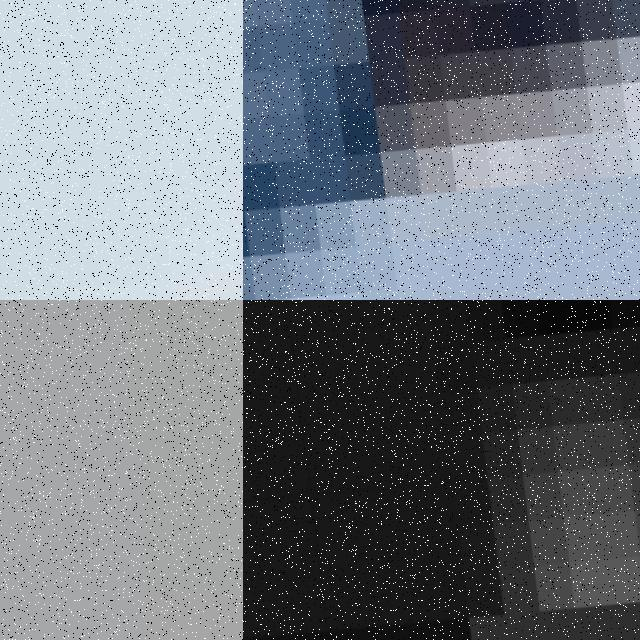0: (243, 300, 640, 640), (243, 0, 640, 300)
drone: (0, 0, 243, 300)
